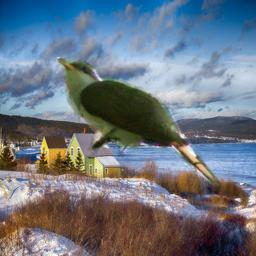Cuckoo: (53, 57, 222, 186)
